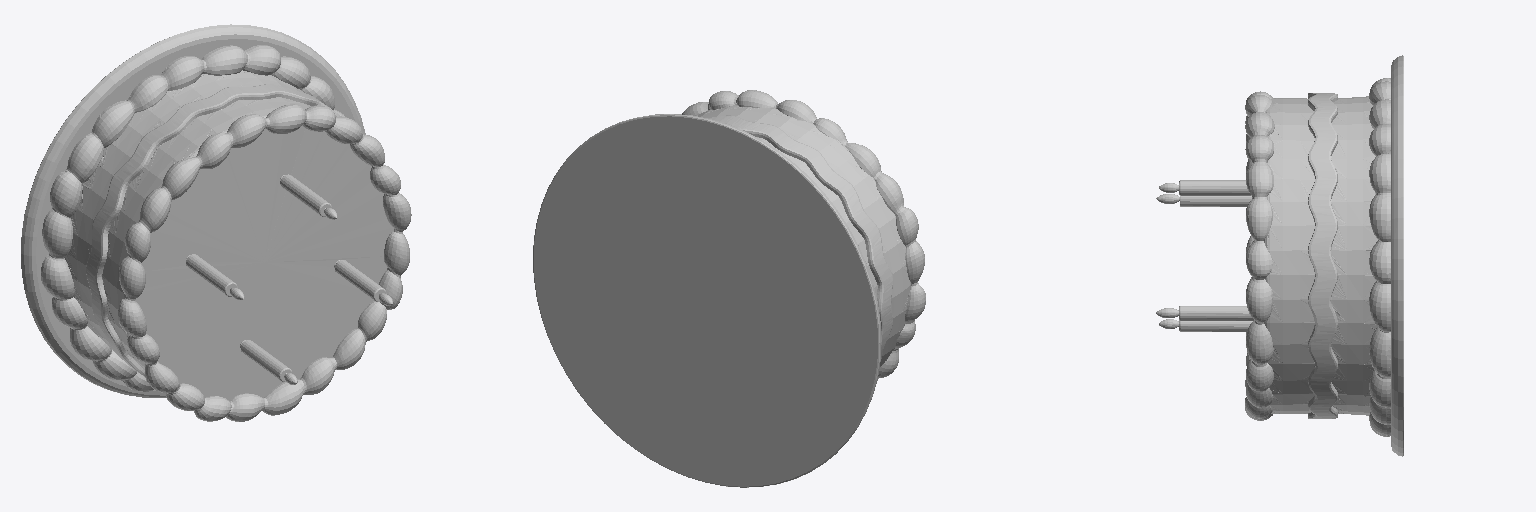
The model's file is Cake1.obj.
3 views of the same model, side by side, from view 1: azimuth 30°, elevation 25°; view 2: azimuth 150°, elevation 25°; view 3: azimuth 270°, elevation 25° (orthographic).
Visible parts, largest first — view 1: Object.1; view 2: Object.1; view 3: Object.1.
Boxes of the visible parts, <box> form: Object.1: <box>21,24,411,421</box>; Object.1: <box>533,90,925,487</box>; Object.1: <box>1156,55,1403,456</box>.
Bounding box in the file's own units: 50.39 × 50.39 × 31.2.